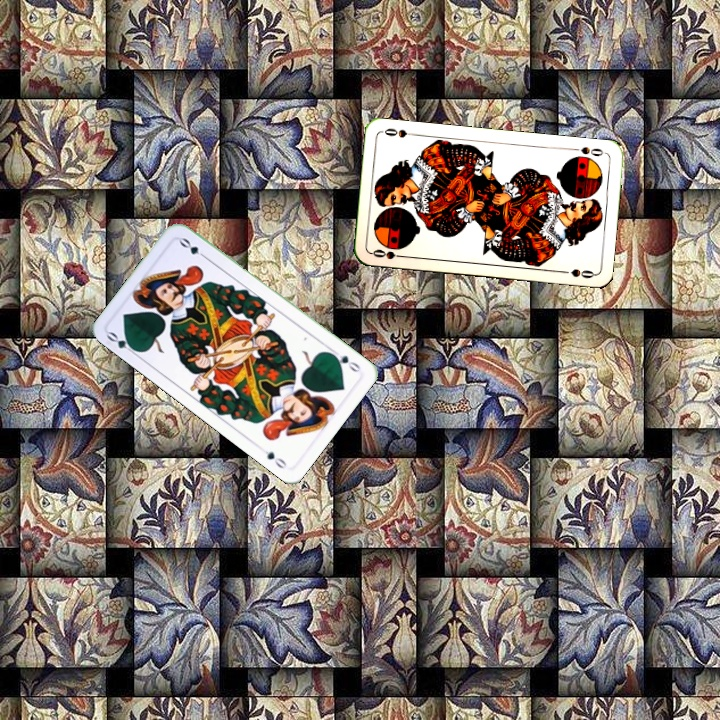GO: (103, 328, 141, 358), (326, 345, 363, 375)
SO: (368, 245, 409, 262), (567, 143, 608, 159)
